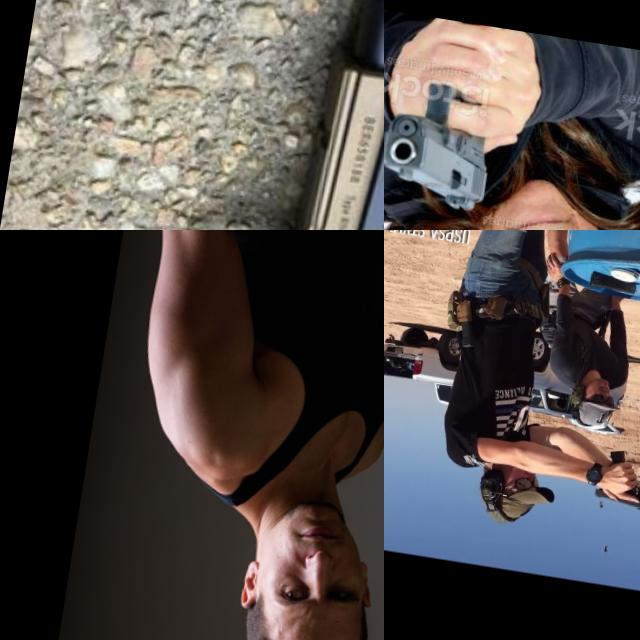handgun: (0, 0, 384, 230), (384, 72, 502, 215), (589, 473, 640, 518)
